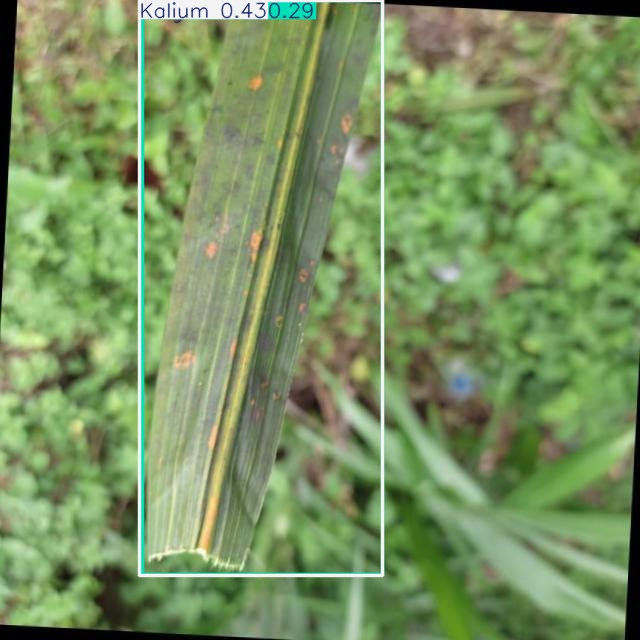Kalium: (139, 0, 382, 575)
Megnesium: (143, 0, 382, 575)
